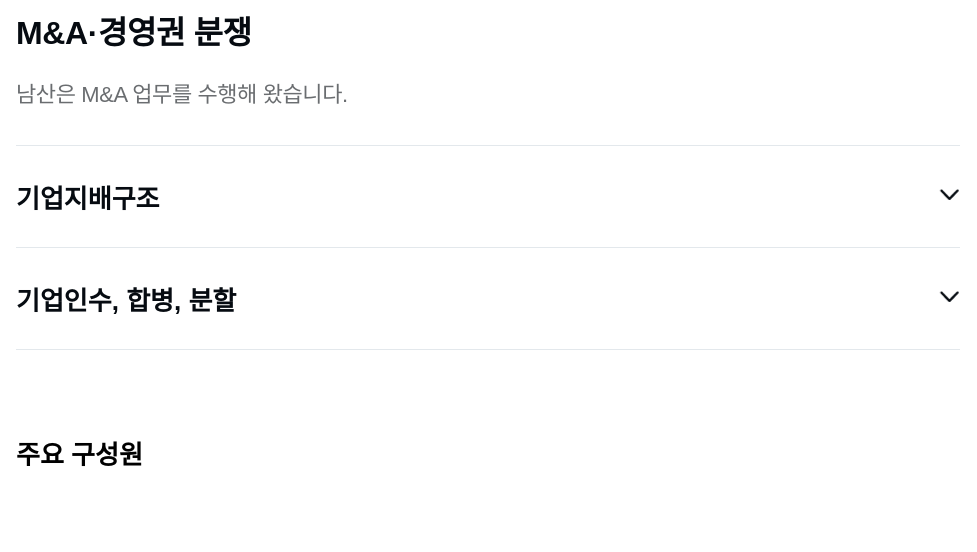
업무분야 상세 - 언어 전환 › 섹션 헤더 클릭으로 펼침/접힘이 동작한다 (회귀 방지)
Expected: the text "지배구조 관련 자문을 제공합니다." is not shown
Click the heading "기업지배구조". click: x=88, y=199
box: [16, 184, 160, 214]
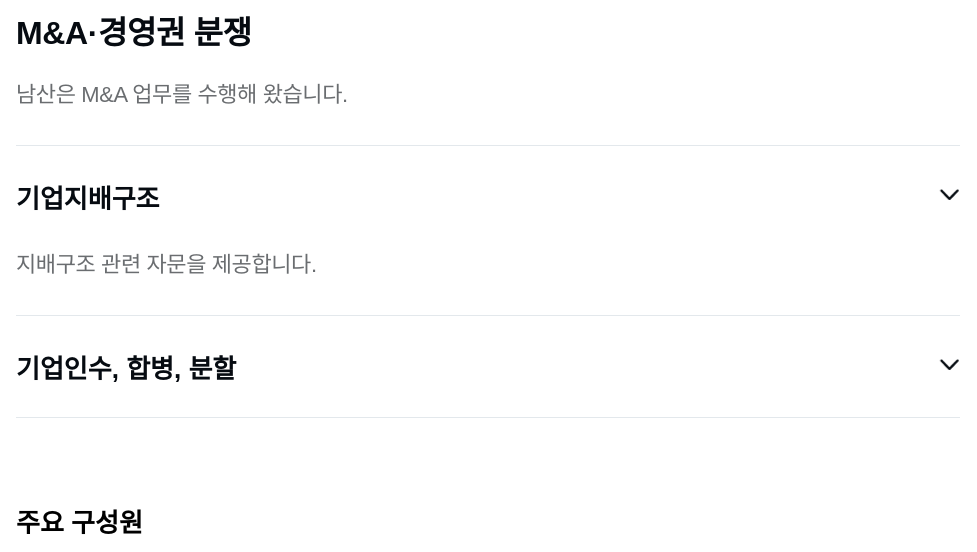
Expected: the text "지배구조 관련 자문을 제공합니다." is shown, [16, 252, 317, 277]
Click the heading "기업지배구조". click: x=88, y=199
box: [16, 184, 160, 214]
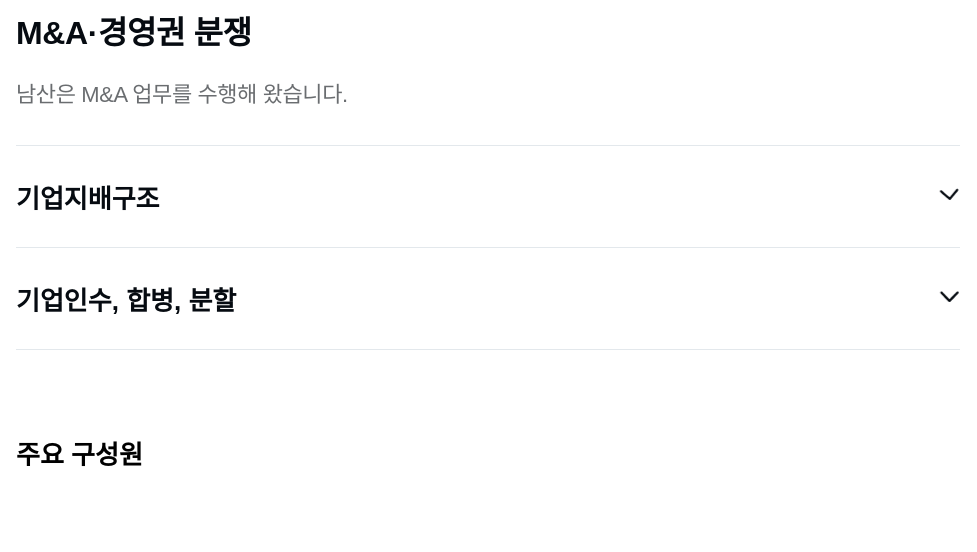
Expected: the text "지배구조 관련 자문을 제공합니다." is gone
